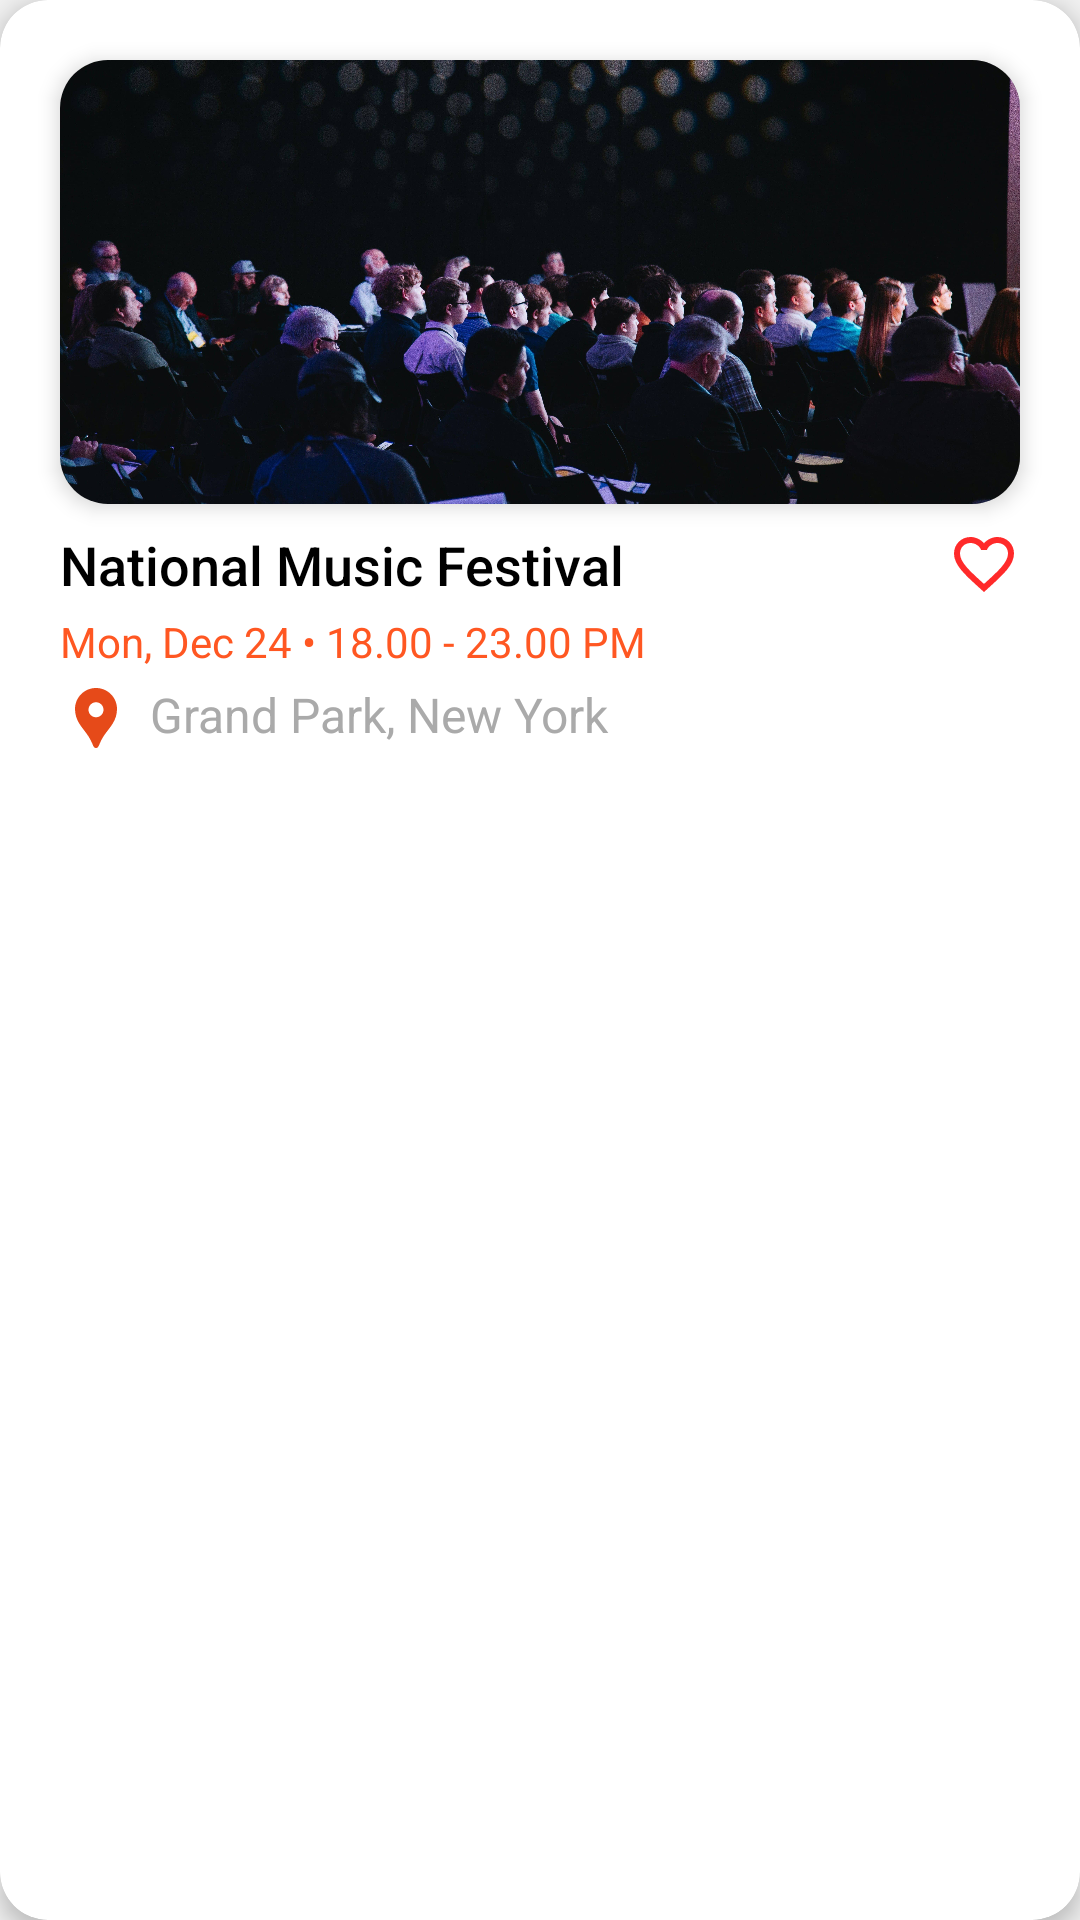

Screen size 1080px x 1920px. Icon name, then its box in pixels as (x1=x1, y1=y1, x2=x2, y2=y2):
heart: (x1=954, y1=537, x2=1014, y2=592)
